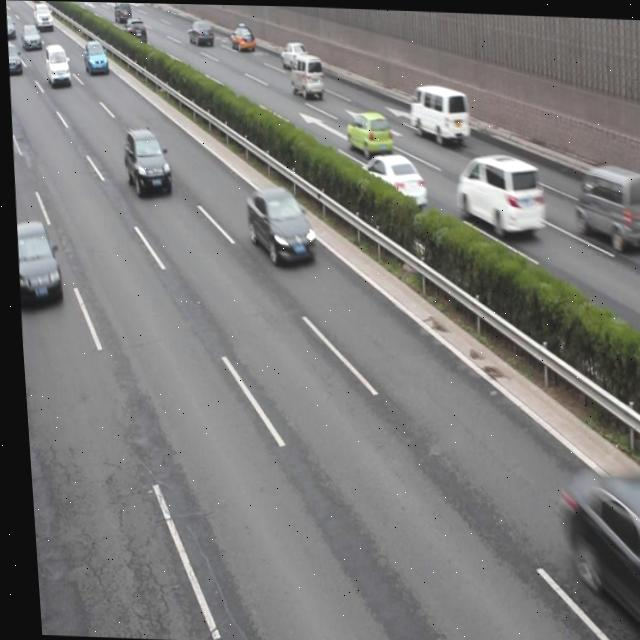car: (552, 467, 640, 640), (451, 148, 540, 235), (241, 185, 312, 265), (357, 148, 424, 206), (12, 222, 58, 305), (120, 128, 170, 196), (343, 109, 390, 155), (43, 42, 69, 86), (82, 40, 109, 73), (187, 19, 213, 46), (230, 23, 254, 51), (279, 40, 306, 63), (124, 17, 146, 44), (6, 43, 22, 75), (21, 27, 40, 49)
truck: (570, 161, 640, 241), (406, 81, 470, 141), (287, 52, 322, 97)
